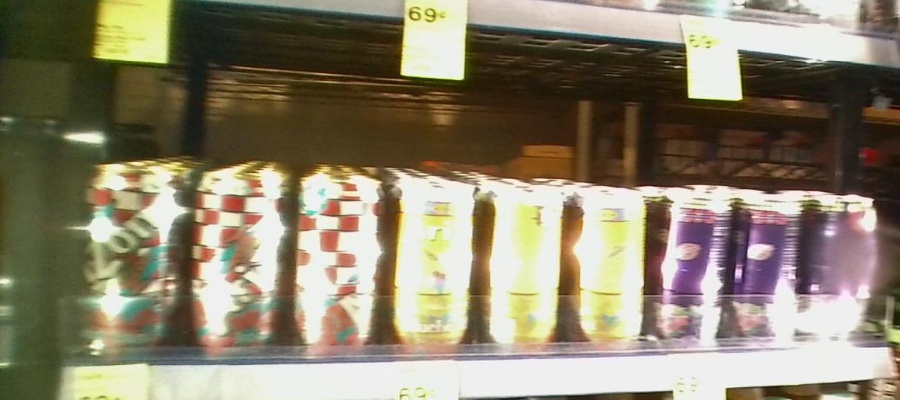bottle: (81, 158, 187, 357), (186, 160, 289, 358), (290, 169, 387, 350), (392, 168, 483, 348), (565, 174, 649, 351), (481, 174, 564, 352), (650, 179, 733, 350), (733, 178, 803, 347), (807, 182, 876, 347)
